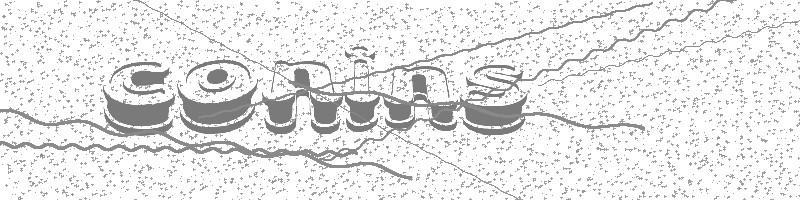c: (101, 59, 175, 137)
i: (342, 45, 381, 134)
n: (261, 59, 342, 135), (383, 65, 459, 132)
o: (177, 58, 257, 135)
s: (459, 63, 528, 136)
